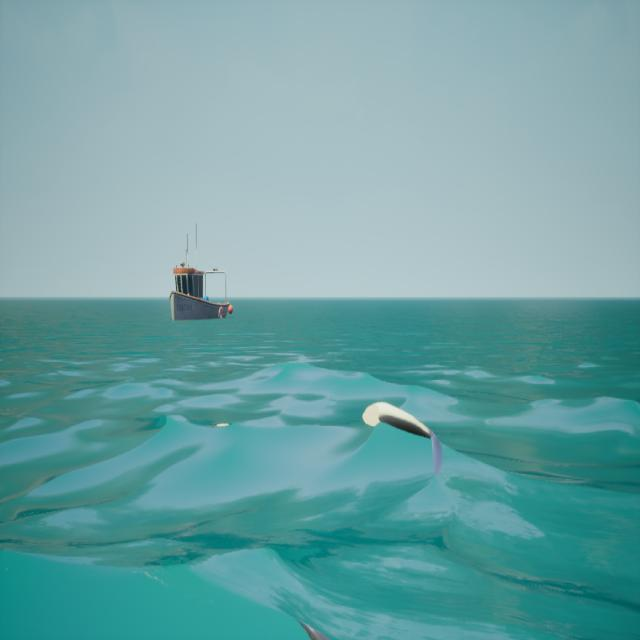ship: (170, 224, 231, 320)
